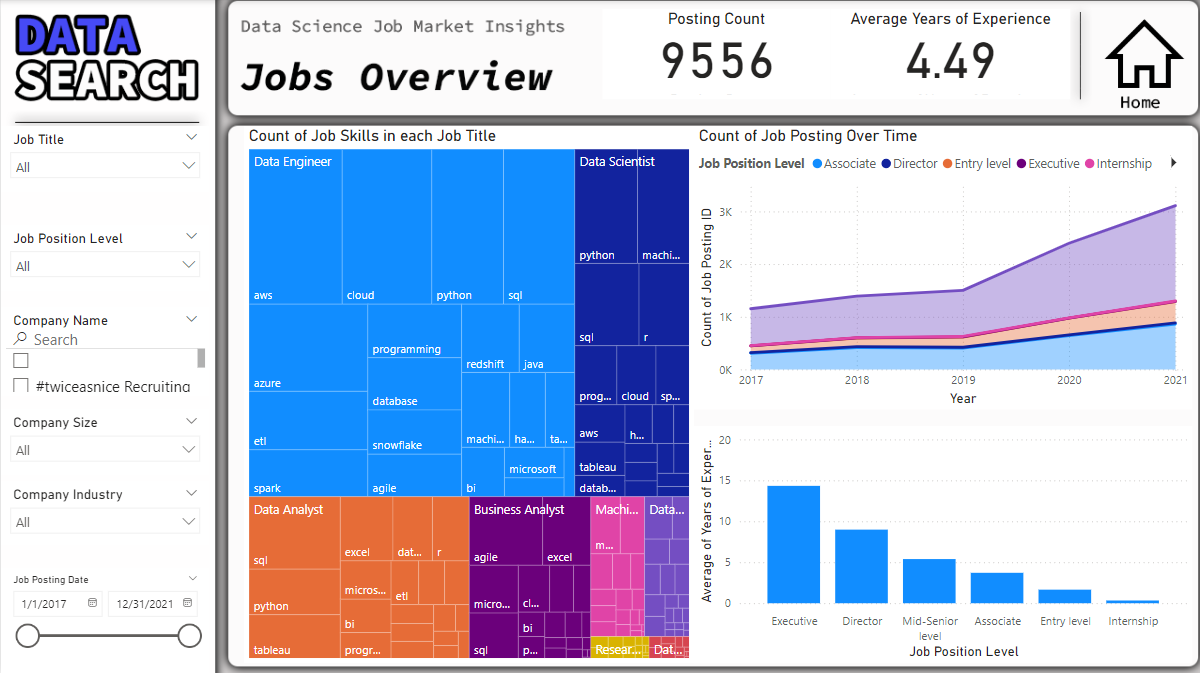

Layout of this report page (visuals, bound fields, positions):
{"tool":"powerbi","page":{"name":"Jobs","canvas":[1280,720],"ordinal":1},"visuals":[{"type":"treemap","title":"Count of Job Skills in each Job Title","fields":{"Group":["job_postings.Job Title"],"Values":["CountNonNull(Job Skills.Job Skills)"],"Details":["Job Skills.Job Skills"]},"box":[258.8,134.2,479.3,572],"z":0},{"type":"clusteredColumnChart","fields":{"Y":["Avg(job_postings.Years of Experience)"],"Category":["job_postings.Job Position Level"]},"box":[738.1,453.7,530.4,252.4],"z":1000},{"type":"stackedAreaChart","title":"Count of Job Posting Over Time","fields":{"Category":["job_postings.Job Posting Date.Variation.Date Hierarchy.Year","job_postings.Job Posting Date.Variation.Date Hierarchy.Quarter","job_postings.Job Posting Date.Variation.Date Hierarchy.Month","job_postings.Job Posting Date.Variation.Date Hierarchy.Day"],"Series":["job_postings.Job Position Level"],"Y":["CountNonNull(job_postings.Job Posting ID)"]},"box":[738.1,134.2,530.4,302],"z":2000},{"type":"slicer","fields":{"Values":["job_postings.Job Title"]},"box":[0,134.2,222.1,70.3],"z":3000},{"type":"slicer","fields":{"Values":["job_postings.Job Position Level"]},"box":[0,239.7,222.1,70.3],"z":4000},{"type":"slicer","fields":{"Values":["job_postings.Company Name"]},"box":[0,327.5,222.1,94.3],"z":5000},{"type":"slicer","fields":{"Values":["job_postings.Company Size"]},"box":[0,436.2,222.1,70.3],"z":6000},{"type":"slicer","fields":{"Values":["job_postings.Company Industry"]},"box":[0,512.9,222.1,67.1],"z":7000},{"type":"slicer","fields":{"Values":["job_postings.Job Posting Date"]},"box":[0,605.5,222.1,115],"z":8000},{"type":"card","title":"Posting Count","fields":{"Values":["_Measures.Posting Count"]},"box":[640.7,9.6,242.8,95.9],"z":9000},{"type":"card","title":"Average Years of Experience","fields":{"Values":["Avg(job_postings.Years of Experience)"]},"box":[883.5,9.6,255.6,95.9],"z":10000},{"type":"image","box":[1167.9,9.6,100.7,95.9],"z":11000}]}

Visuals, with their boxes in screenshot pixels (x1, y1, x2, y2), scaled from the page's 1280x720 canvas onto the 1200x673 screenshot:
"Count of Job Skills in each Job Title" treemap: box=[243, 125, 692, 660]
clusteredColumnChart - Avg(job_postings.Years of Experience) x job_postings.Job Position Level: box=[692, 424, 1189, 660]
"Count of Job Posting Over Time" stackedAreaChart: box=[692, 125, 1189, 408]
slicer - job_postings.Job Title: box=[0, 125, 208, 191]
slicer - job_postings.Job Position Level: box=[0, 224, 208, 290]
slicer - job_postings.Company Name: box=[0, 306, 208, 394]
slicer - job_postings.Company Size: box=[0, 408, 208, 473]
slicer - job_postings.Company Industry: box=[0, 479, 208, 542]
slicer - job_postings.Job Posting Date: box=[0, 566, 208, 672]
"Posting Count" card: box=[601, 9, 828, 99]
"Average Years of Experience" card: box=[828, 9, 1068, 99]
image: box=[1095, 9, 1189, 99]
